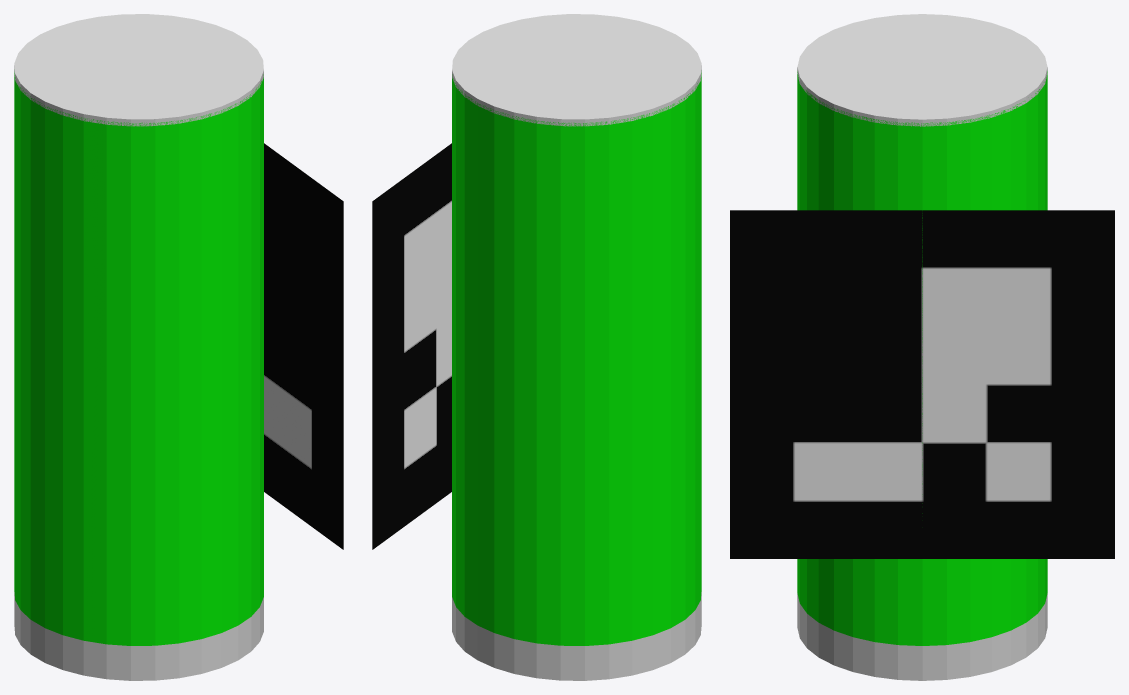
Rendered from can_id2.dae.
3 views of the same model, side by side, from view 1: azimuth 30°, elevation 25°; view 2: azimuth 150°, elevation 25°; view 3: azimuth 270°, elevation 25° (orthographic).
Parts seen in each view (by area): view 1: 円柱, 平面, 円柱.001, 円柱.002; view 2: 円柱, 平面, 円柱.001, 円柱.002; view 3: 平面, 円柱, 円柱.001, 円柱.002.
Boxes of the visible parts, x1,y1,x2,y2 form: 円柱: [14, 72, 263, 645]; 平面: [264, 143, 343, 549]; 円柱.001: [14, 14, 263, 126]; 円柱.002: [14, 592, 263, 680]; 円柱: [452, 72, 701, 645]; 平面: [372, 143, 451, 549]; 円柱.001: [452, 14, 701, 126]; 円柱.002: [452, 592, 701, 680]; 平面: [730, 210, 1114, 558]; 円柱: [797, 71, 1047, 645]; 円柱.001: [797, 14, 1047, 126]; 円柱.002: [797, 593, 1047, 680].
Size of the model in its own units: 0.065 by 0.1 by 0.161.
